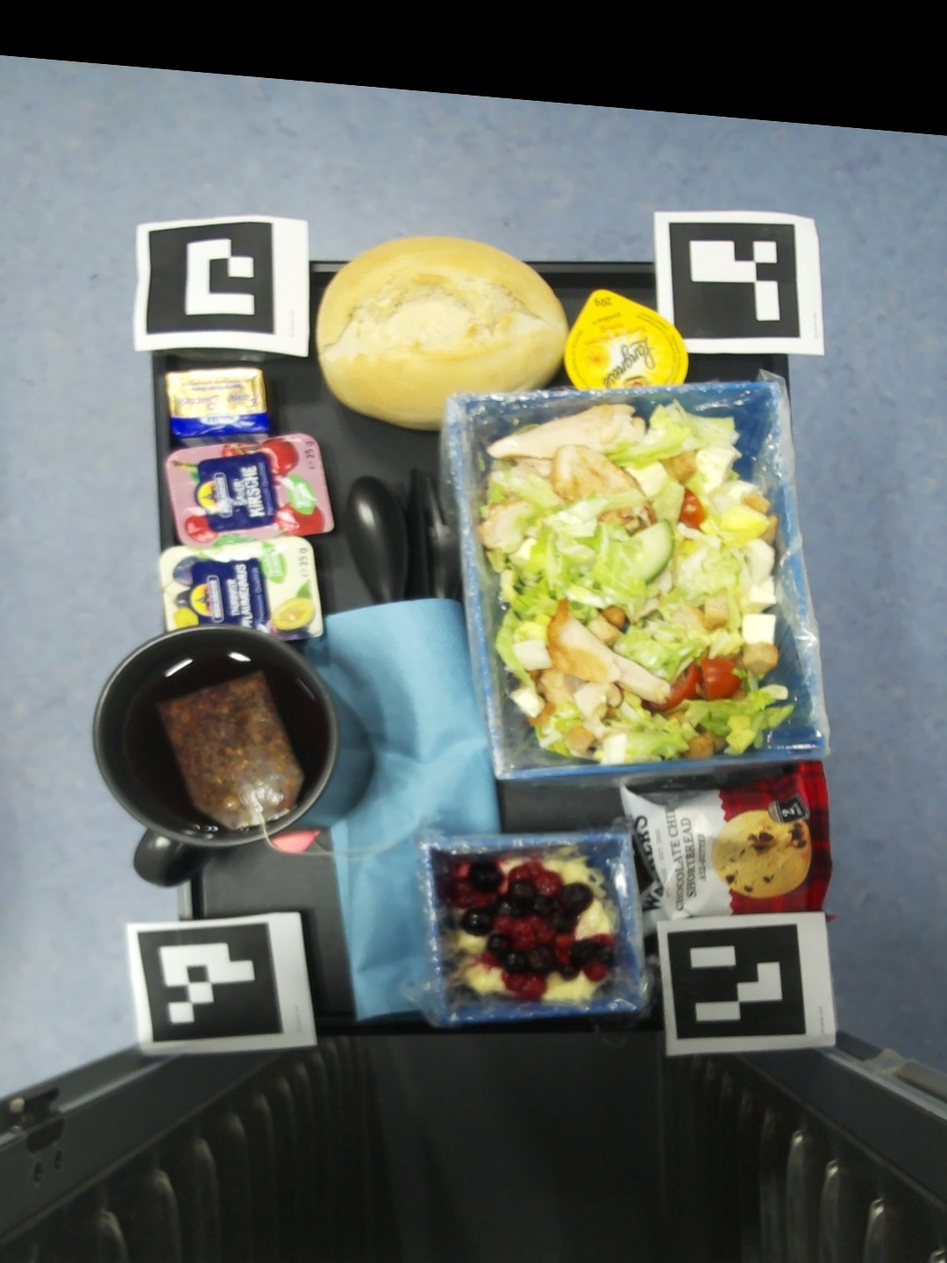bread_roll: (315, 237, 568, 431)
butter: (166, 369, 271, 447)
cherry_jam: (165, 433, 334, 545)
cookie: (619, 761, 833, 939)
honey: (563, 289, 689, 390)
plum_jam: (157, 537, 324, 641)
salad_main: (476, 401, 795, 766)
tea_cup: (92, 626, 374, 886)
vanilla_pudding_with_fruits: (445, 846, 618, 1002)
